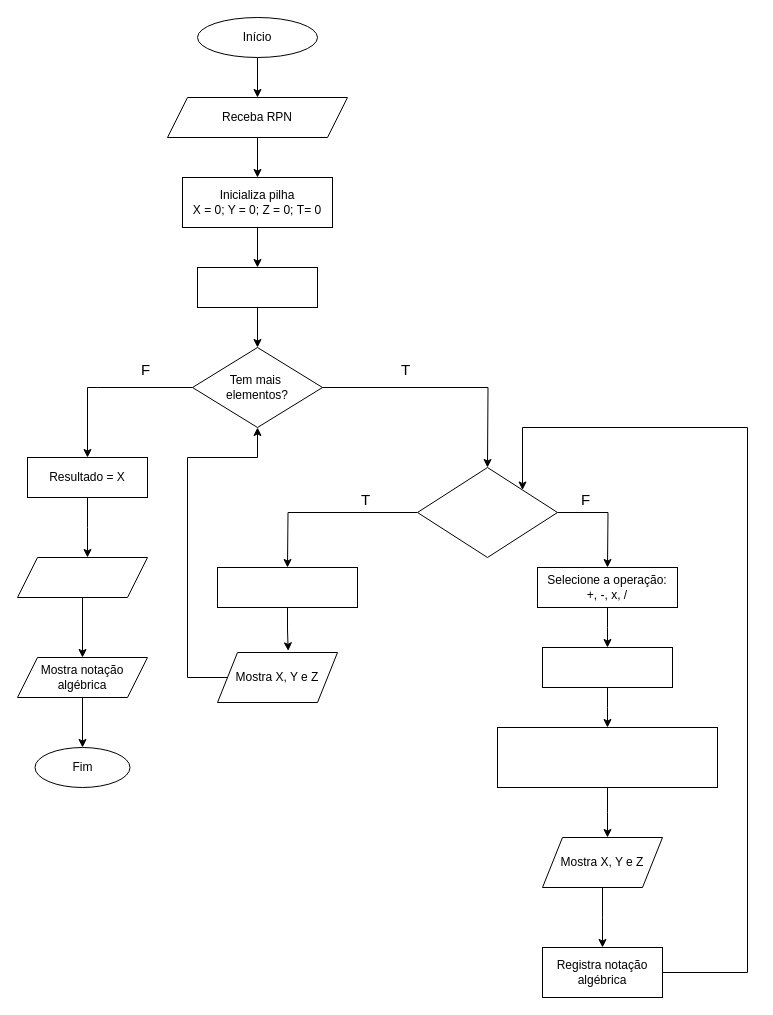
This 773x1015 diagram has some shape labels left out. Each missing label, with the box of its shape:
Atualiza a pilha X ← resultado; Y ← Z ; Z ← T; T ← 0: (496, 726, 718, 788)
Insere número na pilha: (216, 566, 358, 608)
Mostra resultado: (16, 556, 148, 598)
O elemento é um número?: (416, 466, 558, 558)
resultado = Y (operador) X: (542, 646, 672, 688)
Separa elementos: (196, 266, 318, 308)
